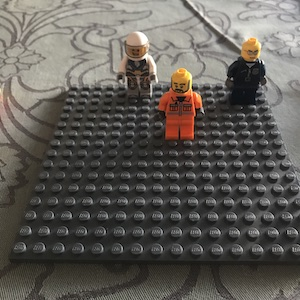Lego: (156, 68, 204, 139), (115, 30, 158, 99), (225, 36, 267, 105)
